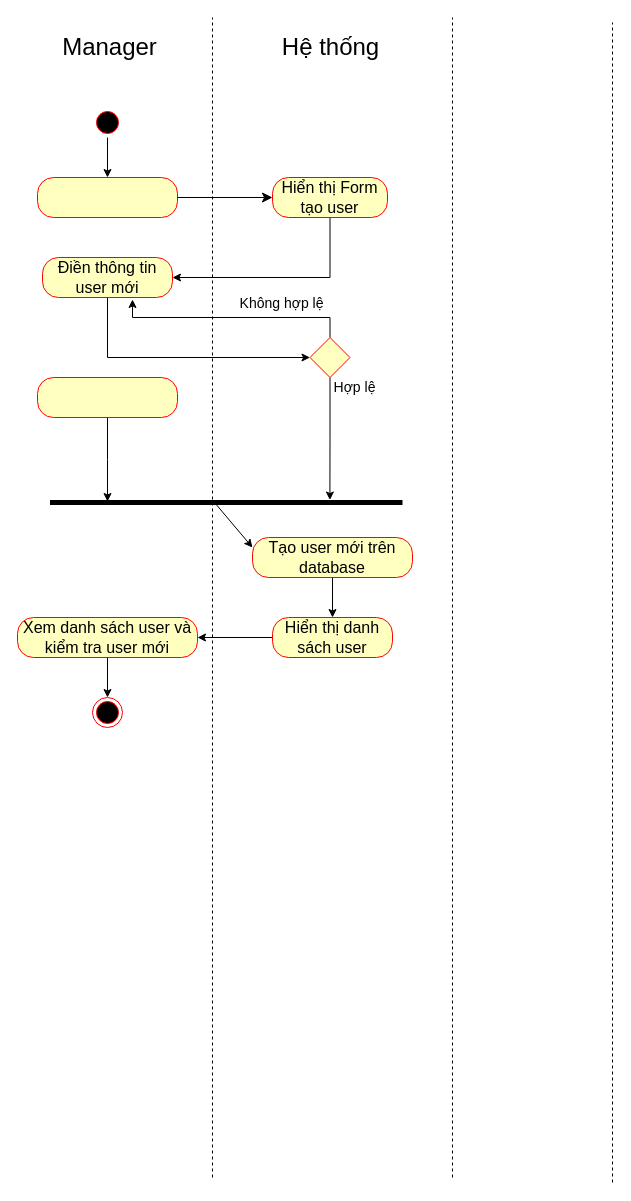
The diagram is 631 pixels wide and 1201 high, and some of its shapes have lost their labels. The shapes that lost their labels are listed below. From the top down, each one's centre as x and y in pixels, then its label:
(107,197): Chọn "Add user"
(107,397): Chọn "Lưu"
